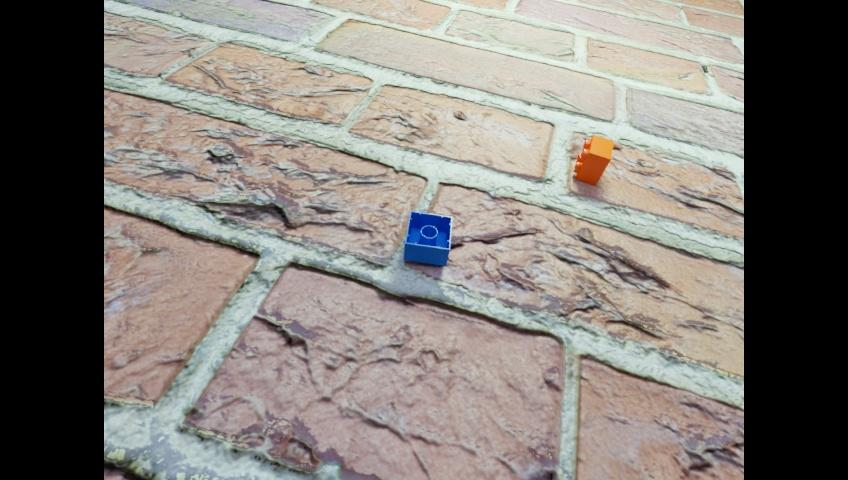2x2_blue: (403, 210, 451, 265)
2x2_orange: (573, 134, 613, 185)
